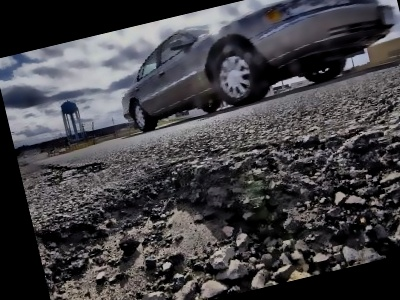pothole: (25, 100, 400, 300), (69, 158, 111, 179)
